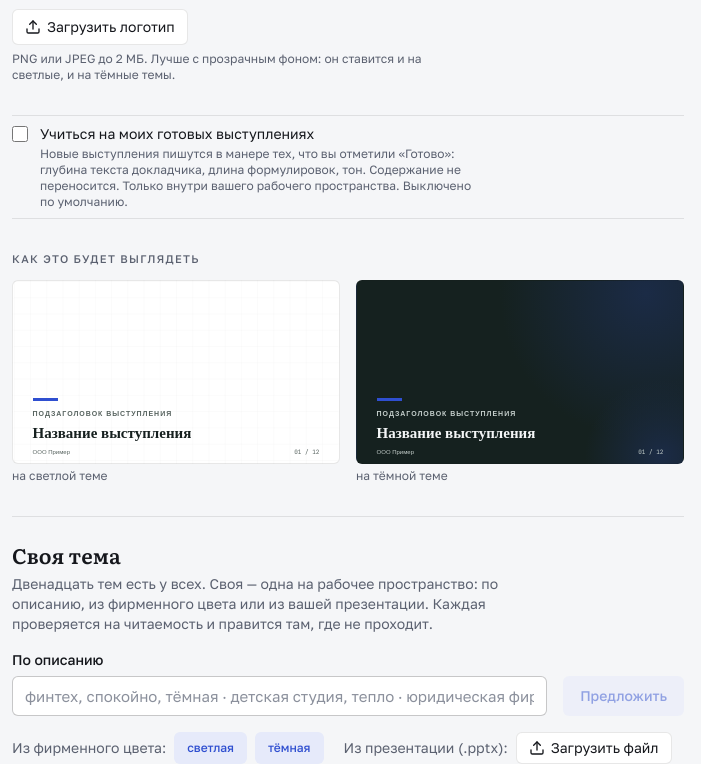
BrandPage — custom theme › proposes from a description, shows the correction by name, saves, and reports the theme as current
(page scrolled)
Replace the text in the field with placeholder "финтех" with "финтех, надёжно, тёмная" at {"x": 280, "y": 696}, box [12,676,547,716]
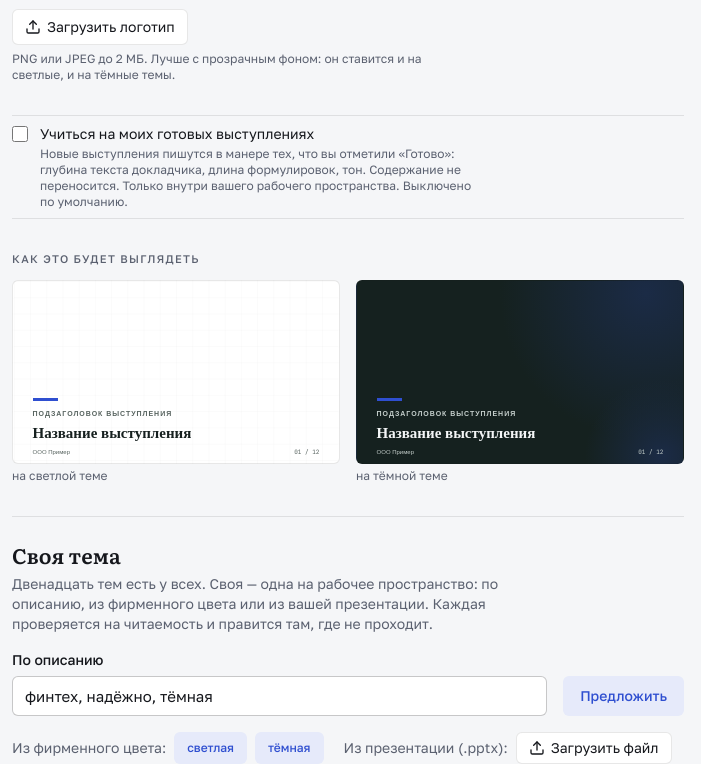
Click the button "Предложить" at {"x": 624, "y": 696}, box [563,676,684,716]
(page scrolled)
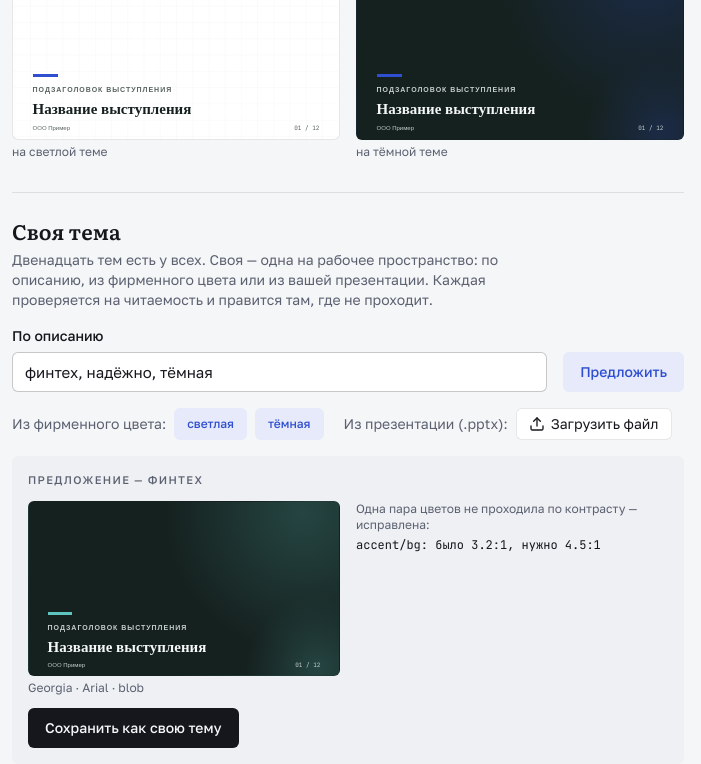
Expected: the text "Предложение — Финтех" is shown, [28,473,203,486]
Expected: the list item "accent/bg: было 3.2:1, нужно 4.5:1" is shown, [356,537,601,553]
Click the button "Сохранить как свою тему" at {"x": 133, "y": 728}, box [28,708,239,748]
(page scrolled)
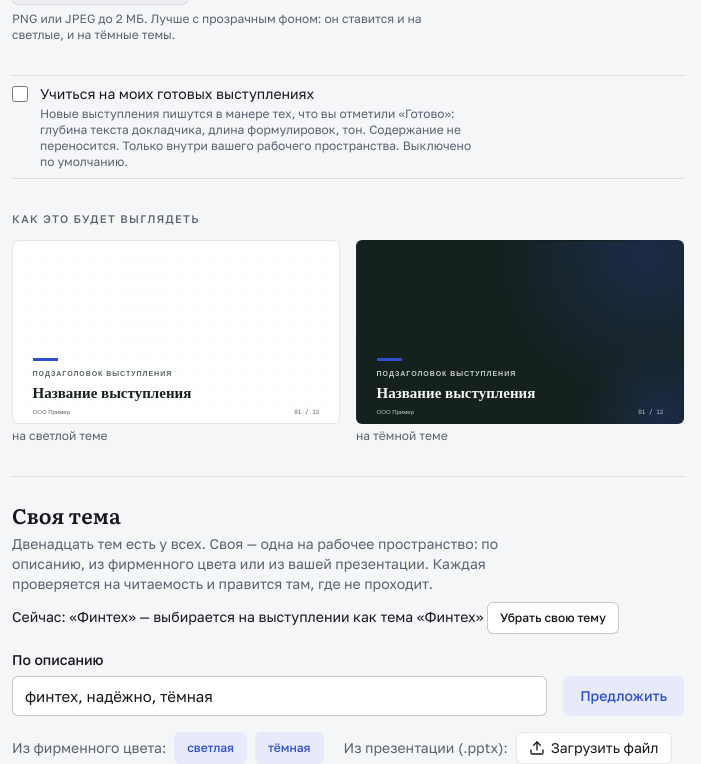
Expected: the text "Сейчас: «Финтех»" is shown, [12,608,484,625]
